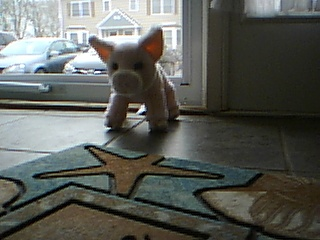piggy: (86, 24, 183, 135)
